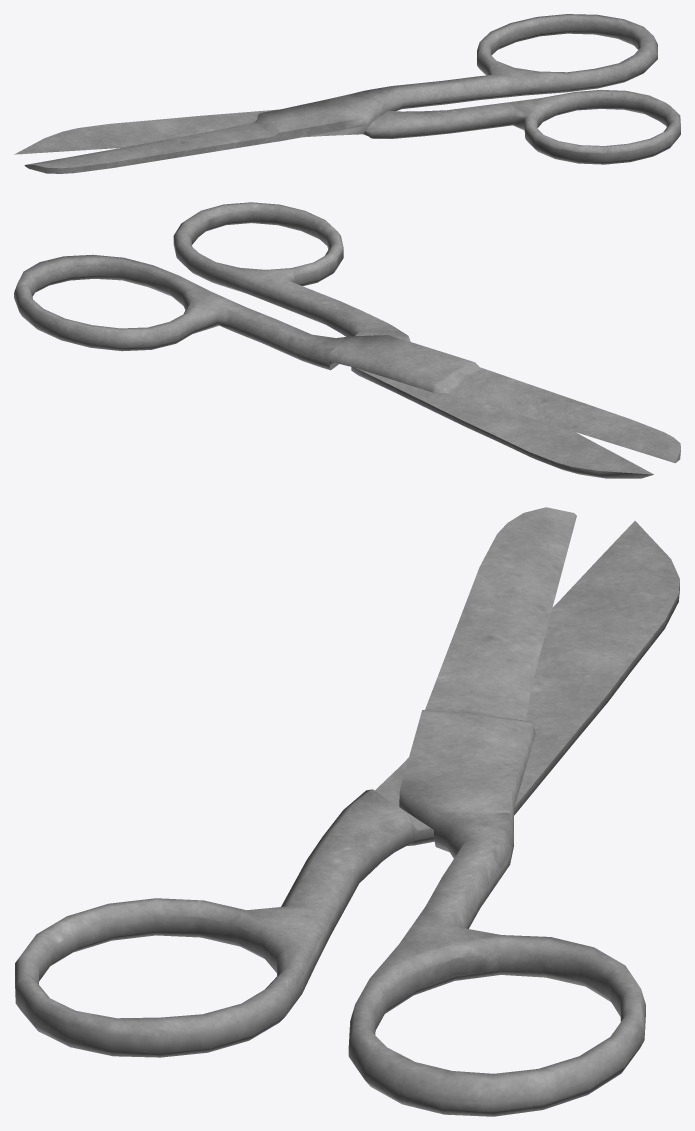
Rendered from instrument_03.glb.
The picture shows the model from 3 angles, top to bottom: view 1: azimuth 30°, elevation 25°; view 2: azimuth 150°, elevation 25°; view 3: azimuth 270°, elevation 25°; orthographic projection. The views are drawn at different scales.
Parts seen in each view (by area): view 1: instrument_03; view 2: instrument_03; view 3: instrument_03.
Boxes of the visible parts, x1,y1,x2,y2 form: instrument_03: (14,14,680,173); instrument_03: (14,202,680,478); instrument_03: (15,507,679,1116).
Size of the model in its own units: 0.2993 by 0.00808 by 0.1433.
Materials: 1 (1 with a texture image).
